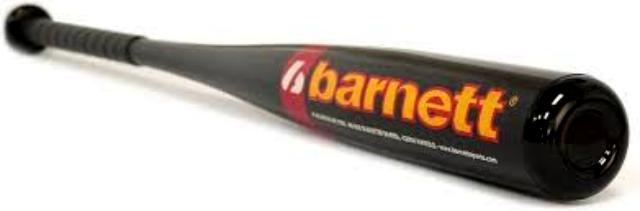baseball bat: (7, 3, 629, 202)
